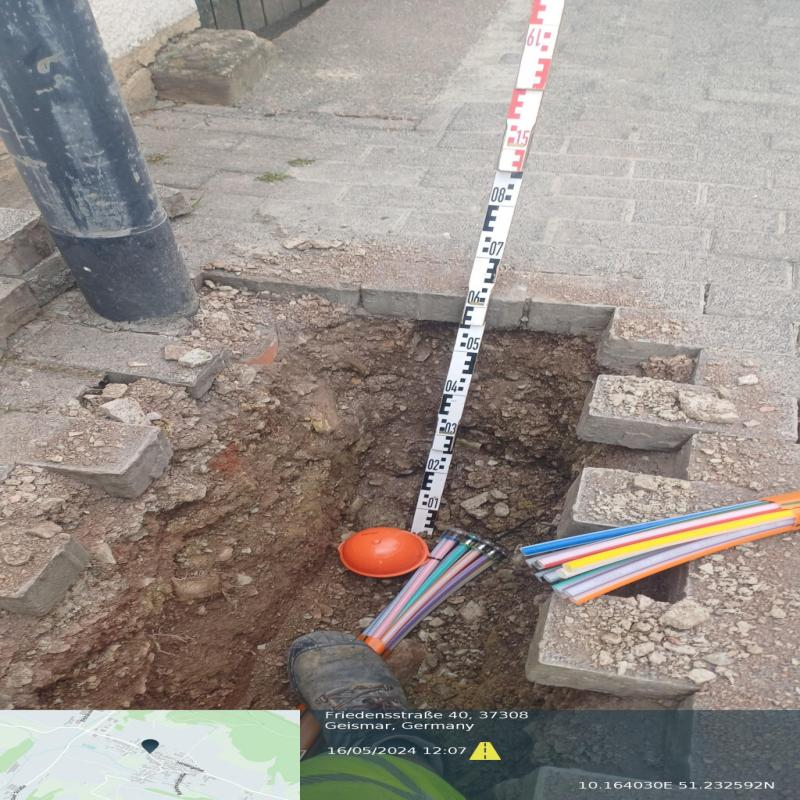Kugelmarker: (338, 526, 430, 576)
Orang-Speednetrohrchen: (359, 528, 510, 658)
